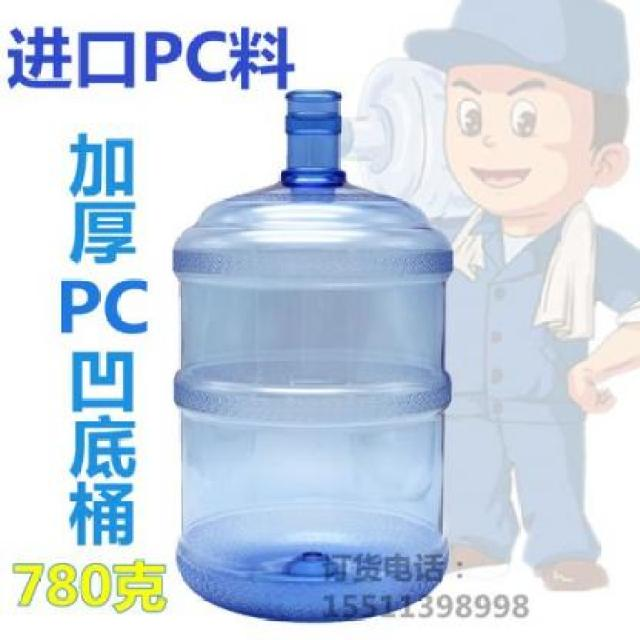coolerbottle: (169, 86, 457, 632)
